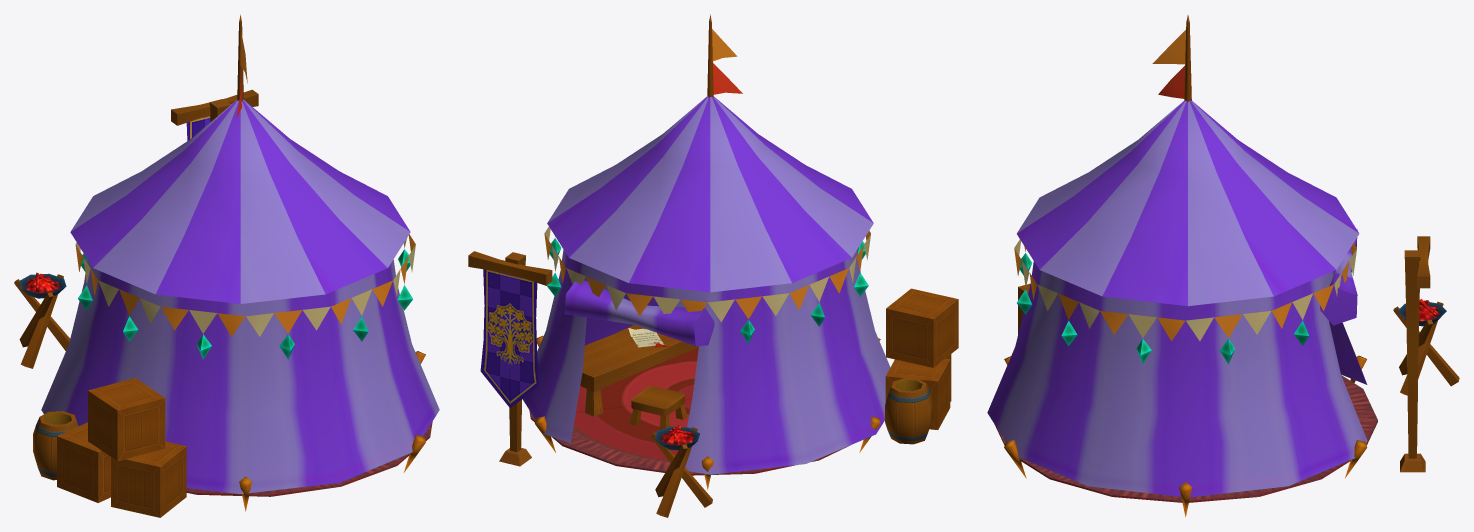
Rendered from HOS1010002.fbx.
3 views of the same model, side by side, from view 1: azimuth 30°, elevation 25°; view 2: azimuth 150°, elevation 25°; view 3: azimuth 270°, elevation 25° (orthographic). The views are drawn at different scales.
Parts seen in each view (by area): view 1: smHOS1010002; view 2: smHOS1010002; view 3: smHOS1010002.
Part boxes in pixels (<box>): smHOS1010002: <box>14,14,439,517</box>; smHOS1010002: <box>468,14,958,517</box>; smHOS1010002: <box>987,15,1459,516</box>.
Size of what is drawn, in the model's own units: 694 by 696 by 702.
1 material, 1 textured.
